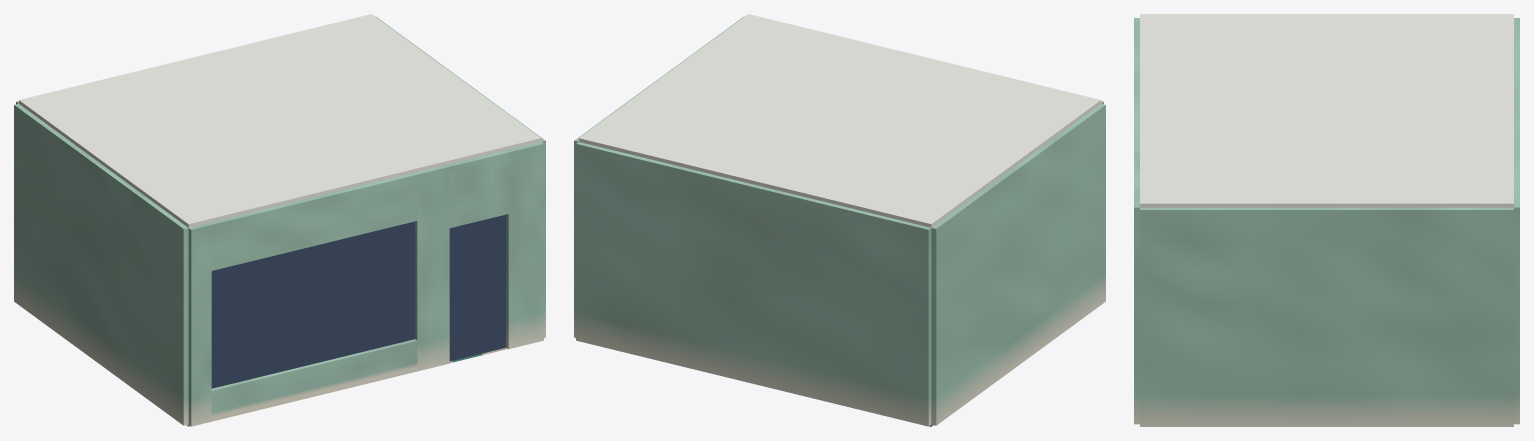
Rendered from PetShopInside.glb.
The picture shows the model from 3 angles, left to right: view 1: azimuth 30°, elevation 25°; view 2: azimuth 150°, elevation 25°; view 3: azimuth 270°, elevation 25°; orthographic projection. The views are drawn at different scales.
Parts seen in each view (by area): view 1: ShopWalls, ShopCeiling, ShopWindows; view 2: ShopWalls, ShopCeiling; view 3: ShopWalls, ShopCeiling.
Part boxes in pixels (x1,y1,x2,y2): ShopWalls: (14,16,545,426); ShopCeiling: (19,14,540,227); ShopWindows: (211,214,506,388); ShopWalls: (574,16,1105,426); ShopCeiling: (579,14,1100,227); ShopWalls: (1134,18,1519,426); ShopCeiling: (1140,14,1513,207).
Bounding box in the file's own units: 6.16 × 3.3 × 5.16.
